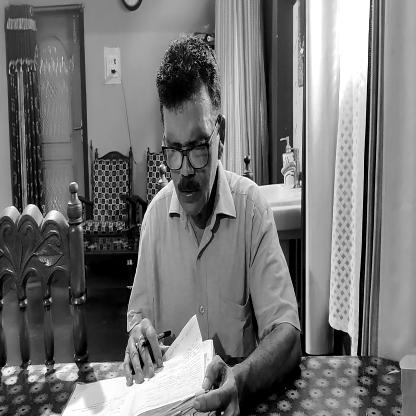Normal: (156, 40, 222, 222)
